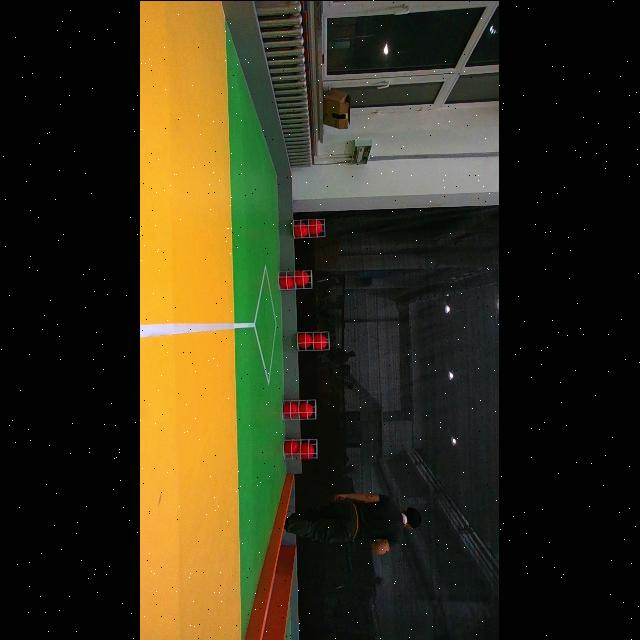R: (309, 218, 325, 232), (281, 273, 295, 289), (286, 438, 298, 456), (314, 334, 328, 348), (300, 442, 314, 456), (300, 401, 312, 417), (286, 401, 298, 417), (295, 222, 307, 236), (296, 270, 308, 284), (300, 332, 312, 346)
S: (284, 436, 318, 460), (294, 215, 326, 239), (280, 266, 312, 290), (284, 396, 316, 420), (297, 329, 329, 351)
